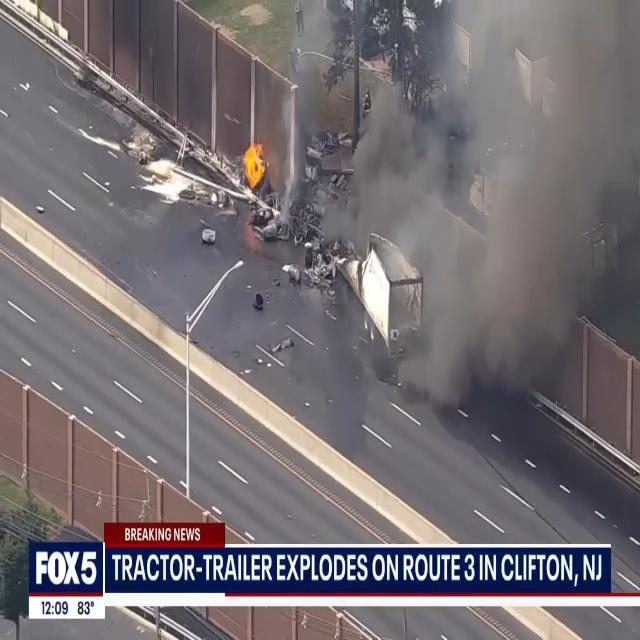fire: (241, 140, 267, 192)
